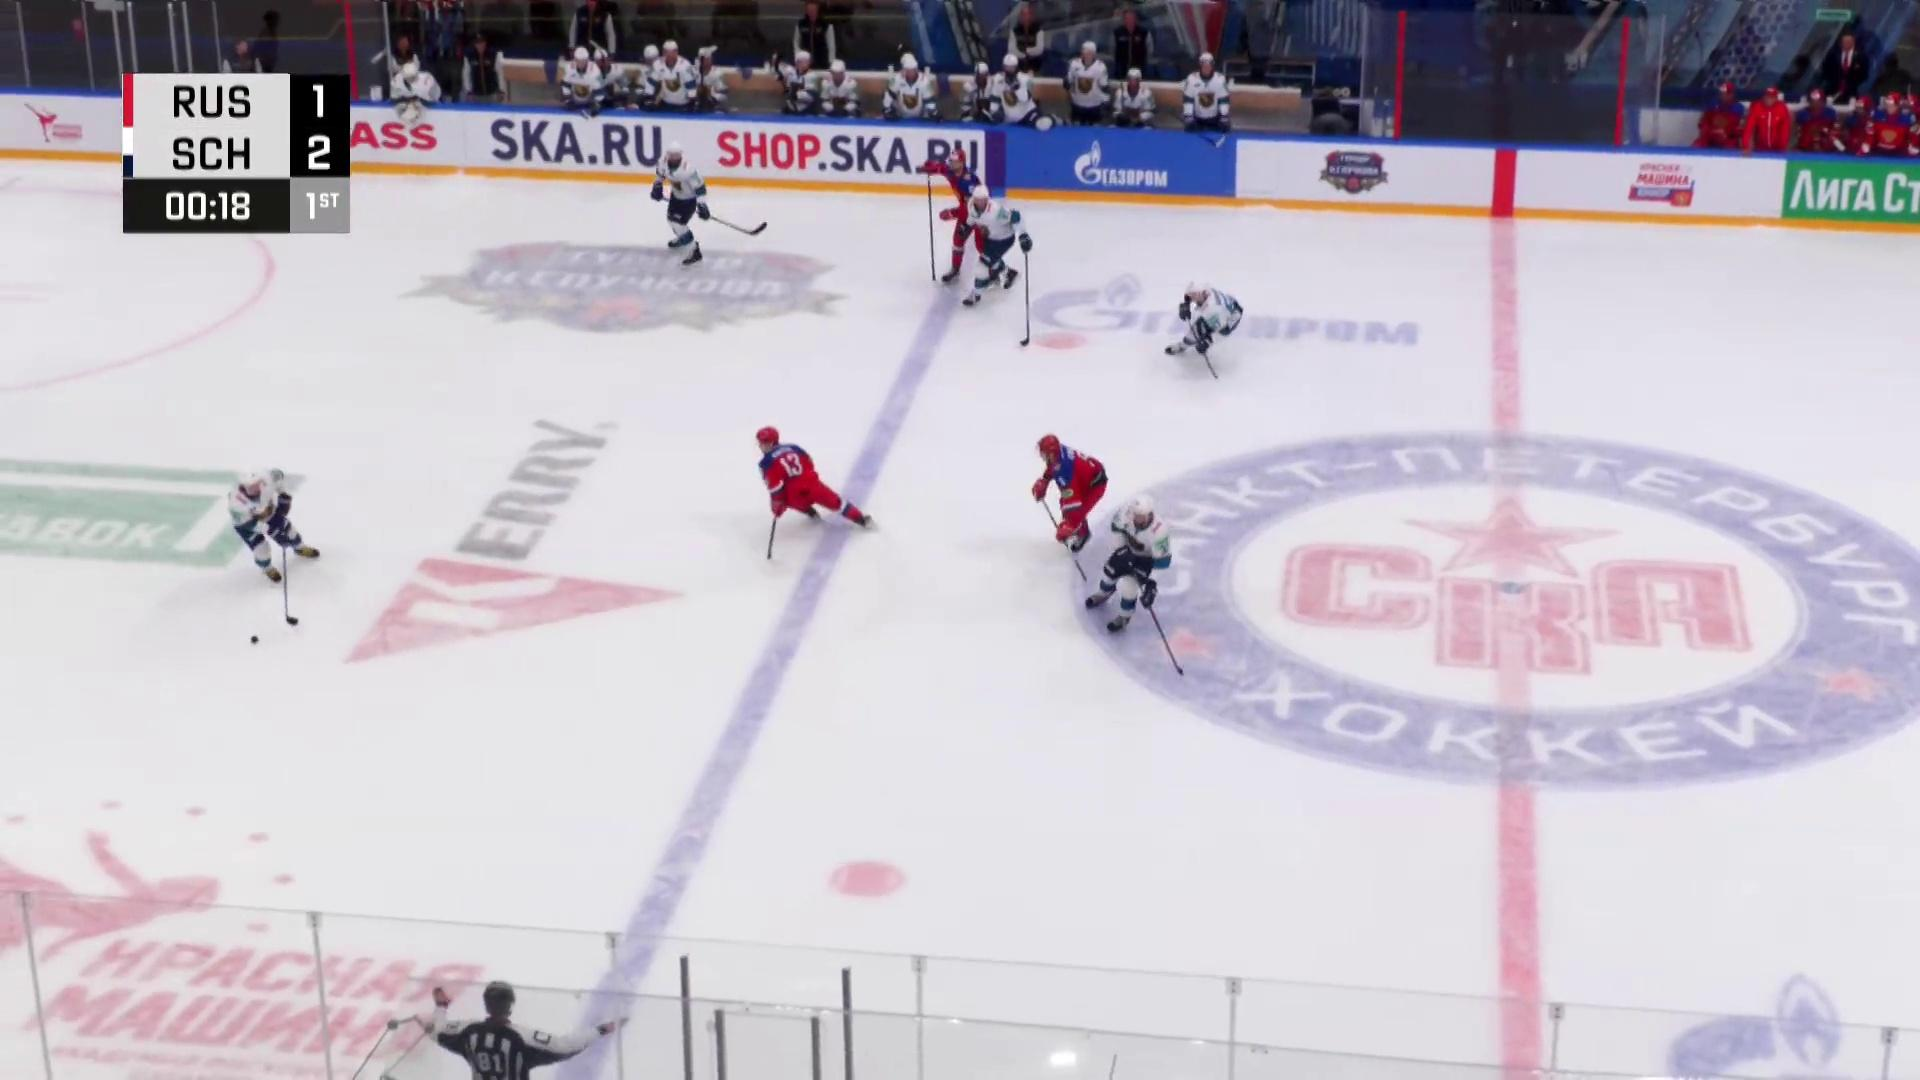ball: (249, 636, 260, 645)
